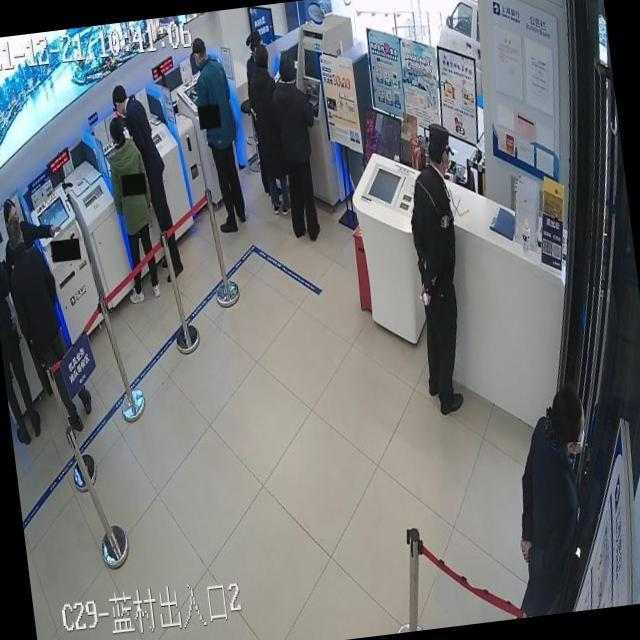person: (492, 382, 609, 616), (396, 121, 484, 416), (0, 197, 94, 437), (110, 79, 185, 288), (187, 32, 250, 236), (267, 52, 331, 245), (101, 114, 163, 306), (103, 114, 163, 304), (0, 197, 55, 404), (0, 228, 44, 445), (242, 35, 292, 218), (0, 243, 39, 432), (2, 194, 64, 276), (241, 28, 268, 98)
